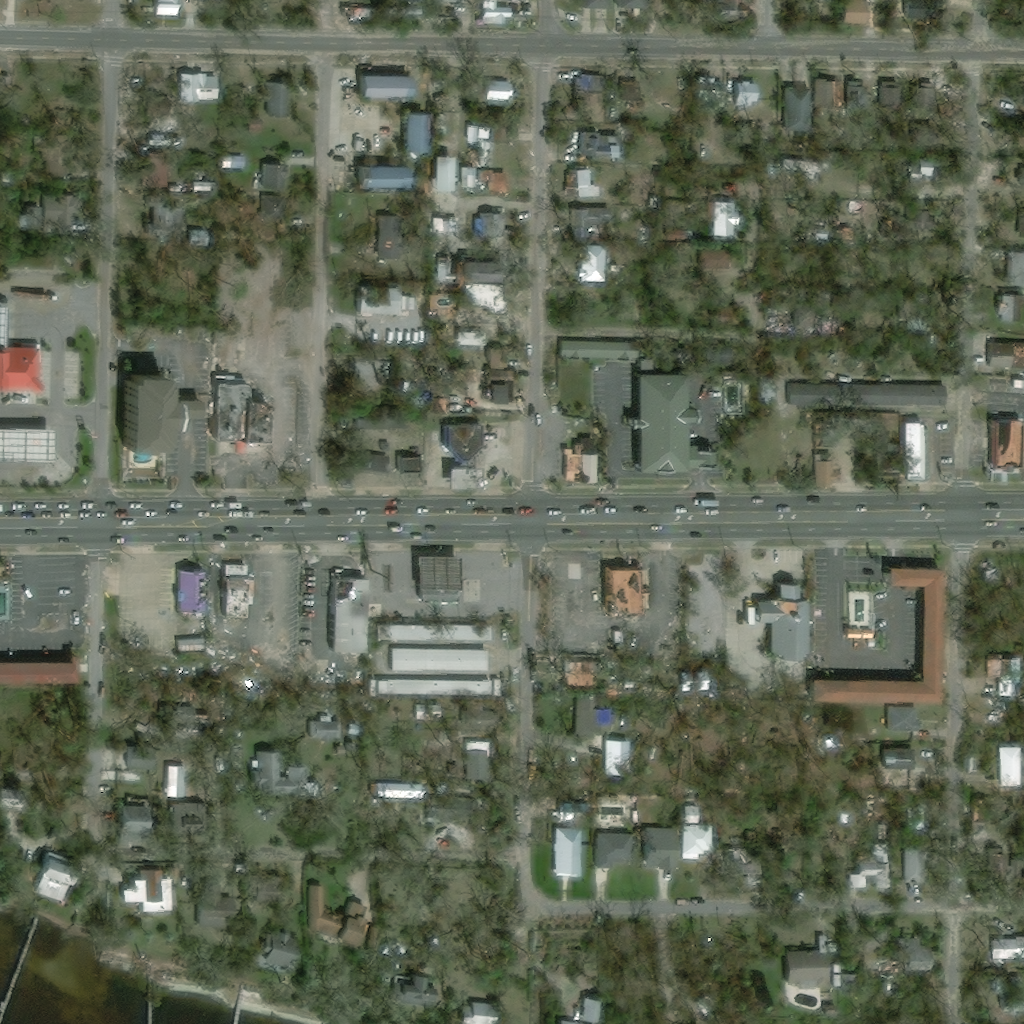destroyed: (794, 295, 830, 324)
major_damage: (754, 582, 811, 663), (214, 380, 271, 442), (606, 565, 651, 613), (561, 435, 600, 484), (225, 565, 253, 616), (177, 571, 208, 612), (986, 344, 1023, 369), (563, 661, 593, 685), (425, 295, 455, 310)
minor_damage: (122, 870, 173, 911), (33, 858, 76, 904), (442, 424, 485, 463), (723, 844, 757, 886), (462, 286, 506, 317), (577, 132, 616, 157), (376, 217, 397, 260), (996, 295, 1023, 325), (811, 80, 839, 108), (715, 204, 738, 236), (572, 171, 599, 197), (475, 210, 503, 233), (479, 171, 508, 193), (452, 465, 485, 484), (980, 851, 1006, 875), (577, 210, 607, 227), (259, 197, 280, 220), (571, 76, 599, 91), (434, 259, 452, 281), (902, 802, 920, 823), (173, 639, 201, 652), (843, 629, 874, 640), (430, 220, 454, 233), (618, 84, 635, 102), (711, 89, 721, 107)
no_damage: (809, 567, 940, 702), (631, 374, 716, 471), (121, 370, 200, 453), (0, 304, 42, 392), (309, 885, 368, 946), (786, 385, 943, 406), (329, 577, 367, 652), (872, 423, 920, 481), (784, 935, 836, 986), (578, 693, 618, 751), (0, 651, 79, 680), (391, 649, 490, 672), (120, 153, 169, 195), (253, 752, 302, 791), (335, 452, 388, 488), (184, 878, 228, 921), (0, 425, 54, 460), (416, 555, 459, 598), (845, 844, 884, 891), (378, 626, 492, 642), (258, 930, 299, 971), (374, 679, 486, 694), (985, 745, 1022, 790), (988, 422, 1020, 471), (180, 70, 220, 106), (984, 651, 1016, 695), (594, 834, 633, 870), (678, 816, 709, 861), (352, 411, 423, 430), (426, 797, 474, 825), (738, 282, 767, 328), (557, 342, 634, 359), (39, 196, 74, 232), (642, 828, 672, 869), (358, 287, 401, 315), (360, 76, 415, 97), (358, 165, 413, 186), (143, 198, 183, 226), (44, 134, 71, 175), (781, 89, 807, 131), (163, 805, 193, 841), (264, 82, 292, 119), (901, 829, 920, 883), (402, 113, 427, 153), (403, 972, 435, 1003), (371, 354, 404, 384), (116, 807, 145, 841), (163, 767, 194, 798), (605, 738, 629, 777), (484, 371, 510, 404), (883, 707, 919, 730), (312, 717, 341, 744), (840, 0, 868, 27), (907, 202, 931, 233), (686, 251, 727, 269), (581, 244, 605, 273), (437, 156, 458, 189), (467, 261, 500, 281), (479, 0, 506, 24), (883, 748, 915, 768), (907, 126, 938, 146), (577, 95, 599, 123), (1004, 253, 1023, 285), (465, 1001, 492, 1023), (769, 868, 798, 888), (263, 165, 286, 189), (125, 748, 149, 771), (491, 114, 510, 143), (733, 82, 754, 107), (154, 0, 183, 17), (994, 978, 1021, 996), (703, 346, 729, 364), (909, 298, 921, 336), (395, 456, 419, 475), (813, 456, 828, 486), (159, 706, 191, 720), (378, 948, 395, 974), (458, 334, 489, 348), (583, 996, 601, 1020), (468, 705, 493, 722), (483, 83, 508, 99), (844, 82, 863, 103), (484, 350, 504, 369), (837, 974, 856, 993), (461, 170, 477, 190), (917, 159, 934, 177), (223, 158, 245, 170), (342, 9, 368, 19), (619, 712, 635, 727), (722, 310, 736, 327), (818, 1004, 835, 1017), (815, 438, 837, 448), (1016, 118, 1023, 148), (466, 126, 477, 142), (580, 0, 604, 7), (616, 0, 640, 7), (641, 360, 654, 372), (246, 120, 258, 133), (348, 724, 360, 737), (403, 297, 414, 311), (460, 367, 471, 381), (479, 129, 489, 140), (1017, 170, 1023, 188), (337, 0, 355, 6), (169, 867, 180, 876), (209, 10, 219, 18), (1018, 223, 1023, 238), (347, 743, 354, 751), (337, 748, 343, 755), (427, 316, 433, 322)
